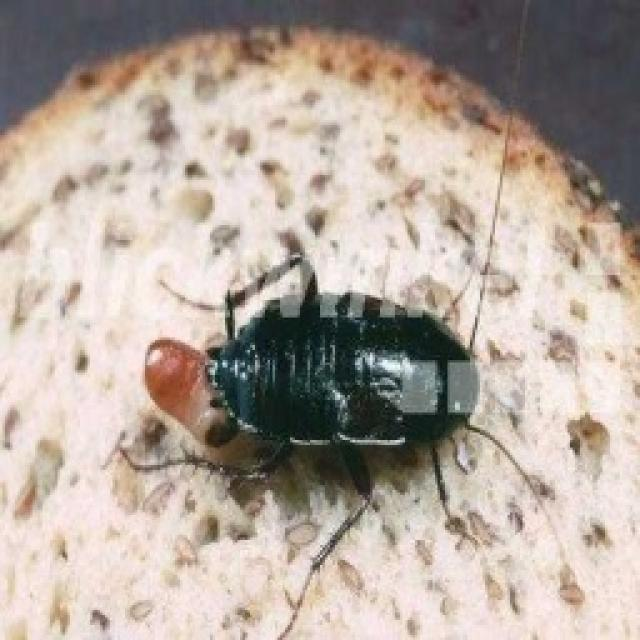cockroach: (88, 253, 512, 540)
